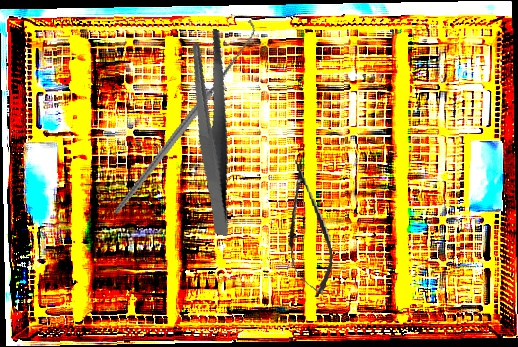Dressing Forceps: (157, 25, 268, 237)
Hook Surgical: (64, 18, 303, 217)
Micro Scissor: (276, 156, 339, 300)
